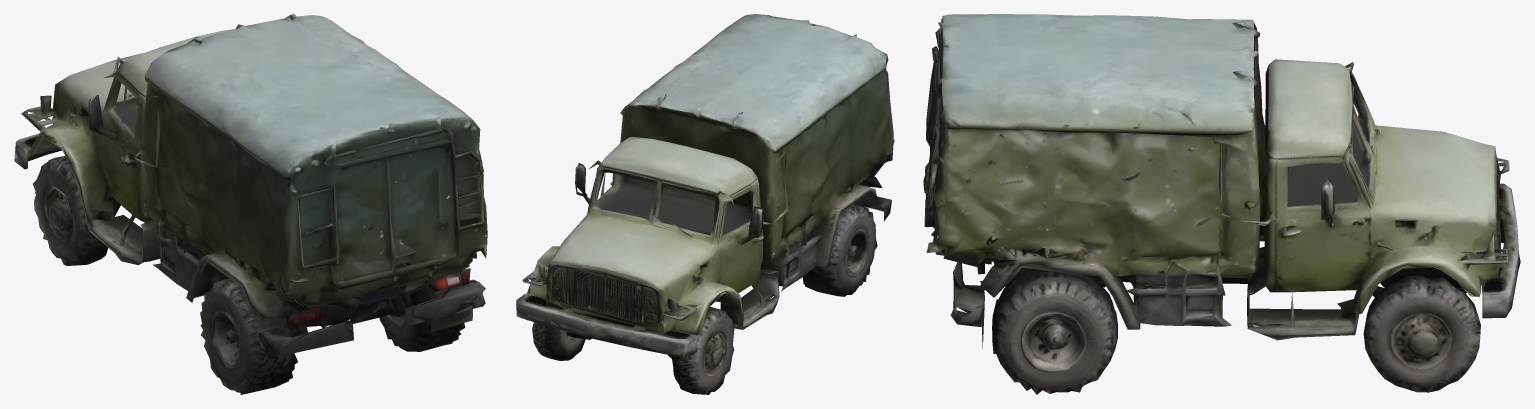
The model's file is ul_kung.glb.
3 views of the same model, side by side, from view 1: azimuth 30°, elevation 25°; view 2: azimuth 150°, elevation 25°; view 3: azimuth 270°, elevation 25° (orthographic). The views are drawn at different scales.
Visible parts, largest first — view 1: tripo_node_7ab8c9ff-12a1-4288-806a-3b1807d54b92; view 2: tripo_node_7ab8c9ff-12a1-4288-806a-3b1807d54b92; view 3: tripo_node_7ab8c9ff-12a1-4288-806a-3b1807d54b92.
Boxes of the visible parts, x1,y1,x2,y2 form: tripo_node_7ab8c9ff-12a1-4288-806a-3b1807d54b92: (14, 14, 487, 394); tripo_node_7ab8c9ff-12a1-4288-806a-3b1807d54b92: (516, 14, 894, 394); tripo_node_7ab8c9ff-12a1-4288-806a-3b1807d54b92: (923, 14, 1520, 394).
Size of the model in its own units: 0.4802 by 0.5505 by 1.
1 material, 1 textured.
